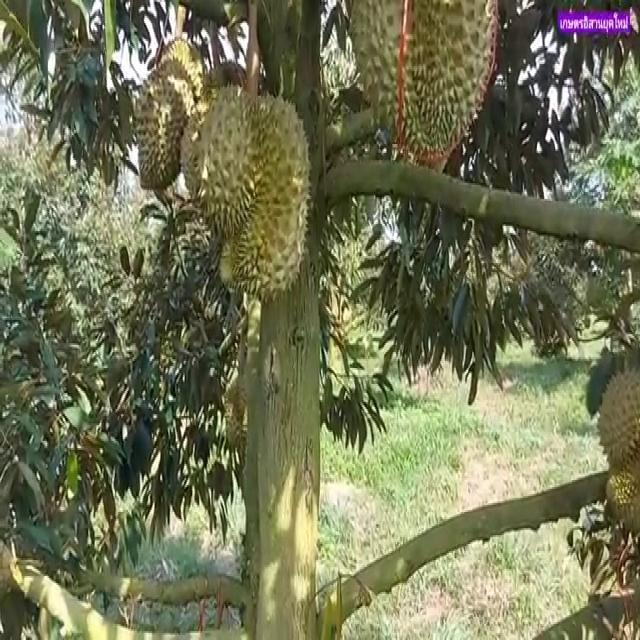durian: (177, 77, 314, 313), (343, 0, 503, 167), (214, 85, 314, 310), (134, 56, 204, 200), (594, 369, 639, 541)
